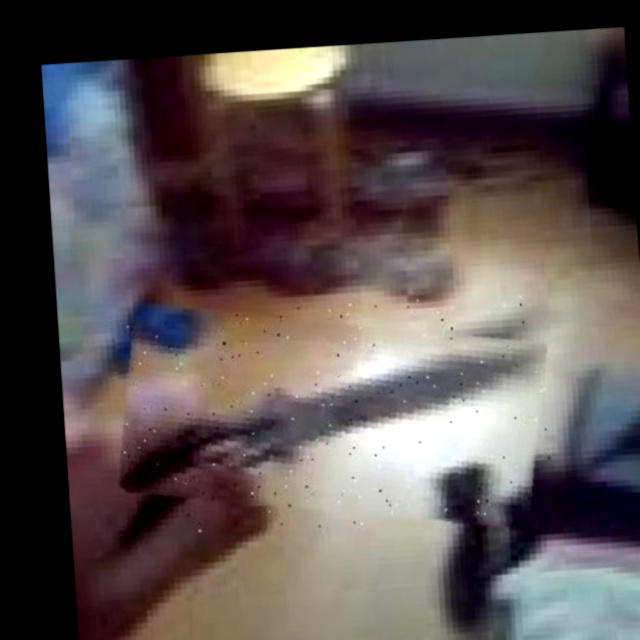Sharp-Object: (114, 293, 553, 540)
